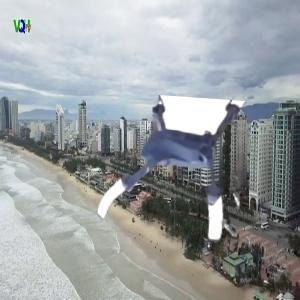drone: (93, 97, 244, 248)
